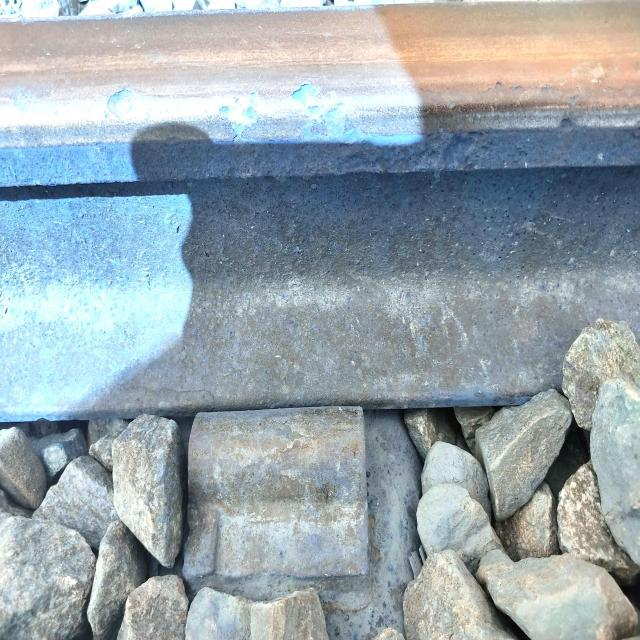Missing Fastener: (182, 401, 418, 614)
